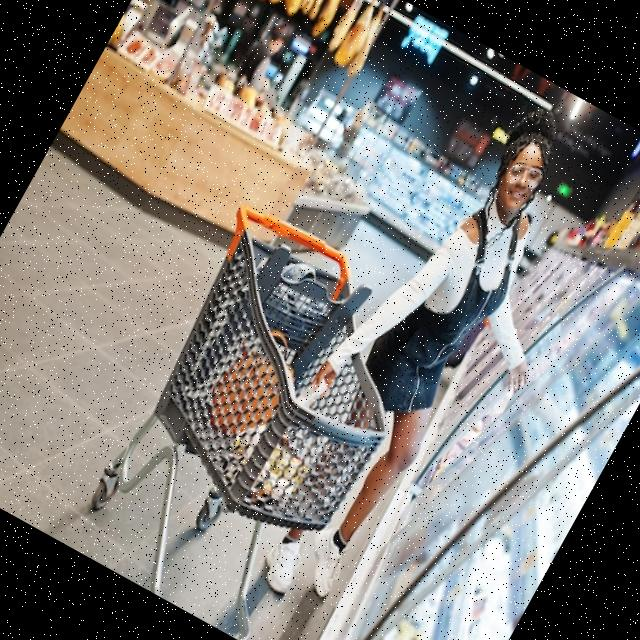Person: (216, 77, 640, 640)
